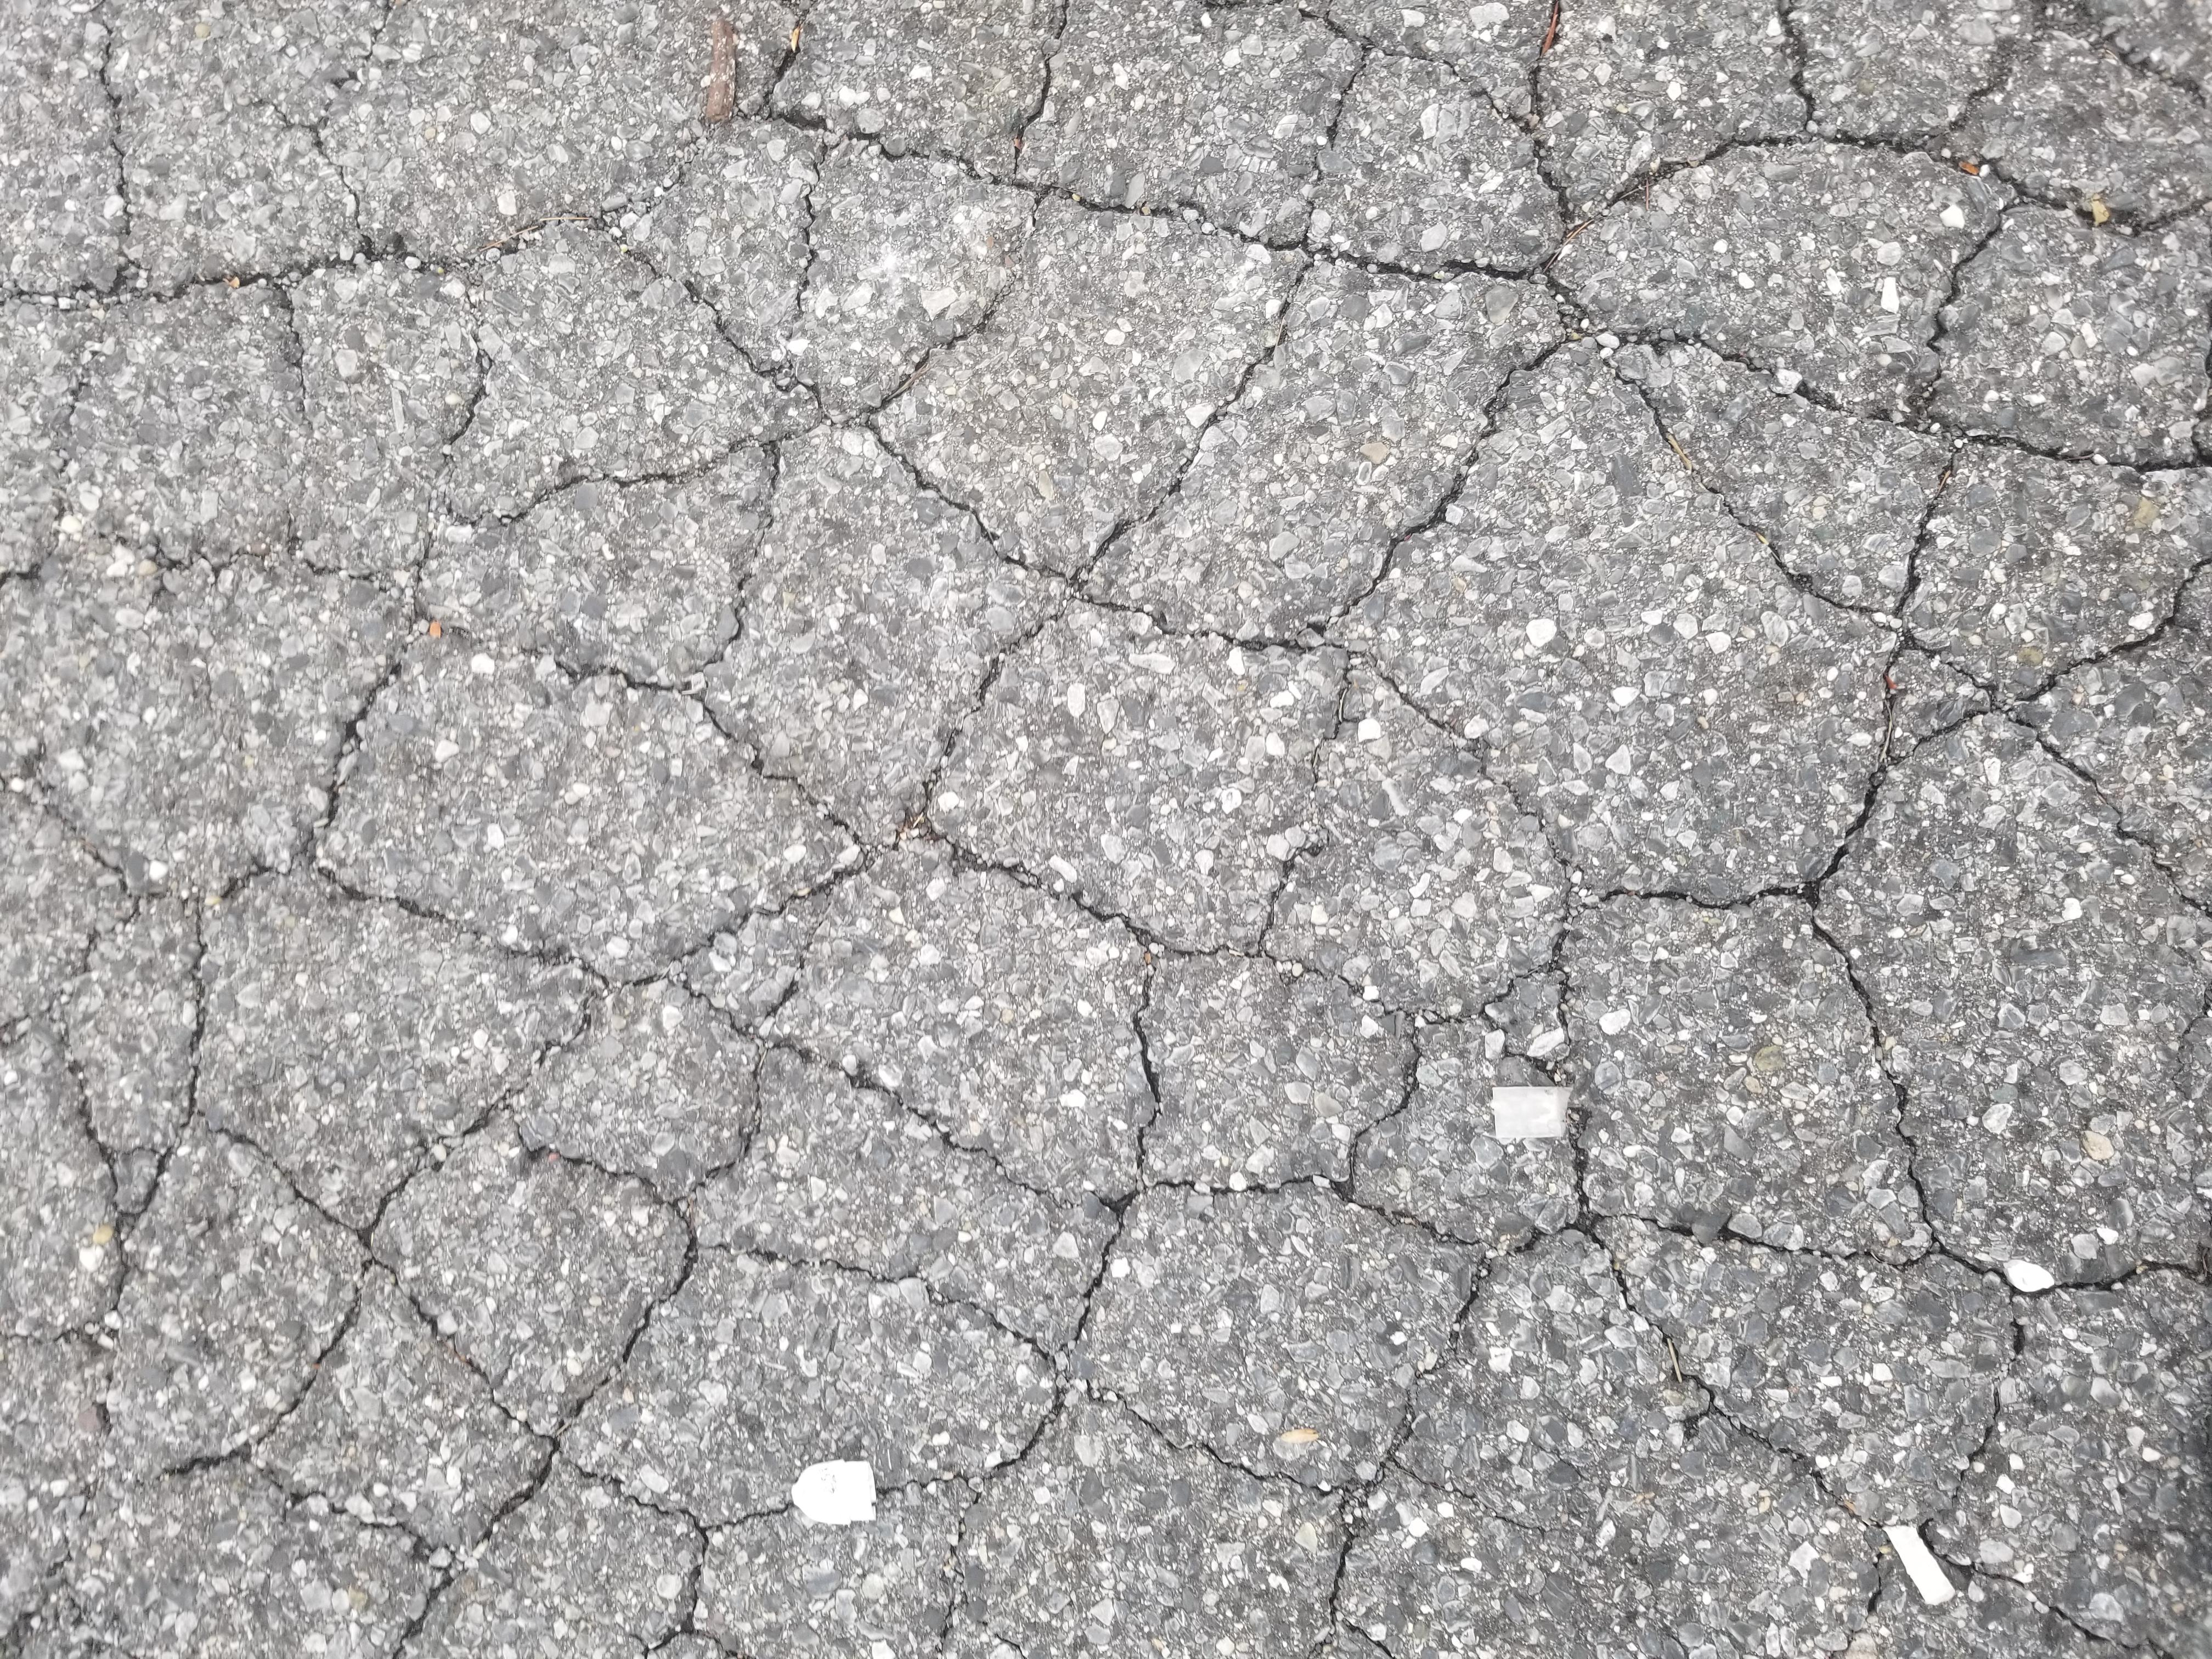alligator-crack: (66, 70, 2114, 1629)
